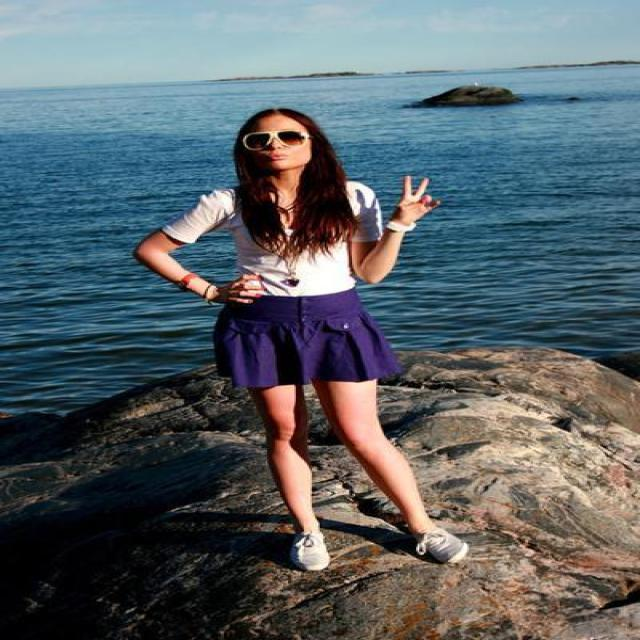shirt: (172, 182, 402, 294)
shoe: (294, 506, 454, 570)
skirt: (197, 268, 405, 394)
